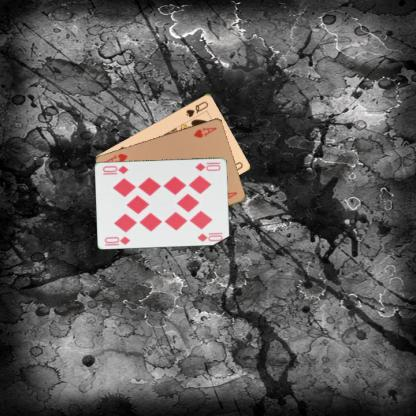10d: (193, 160, 221, 172), (102, 234, 131, 245)
Ah: (190, 124, 218, 139)
Qs: (184, 99, 209, 119)
